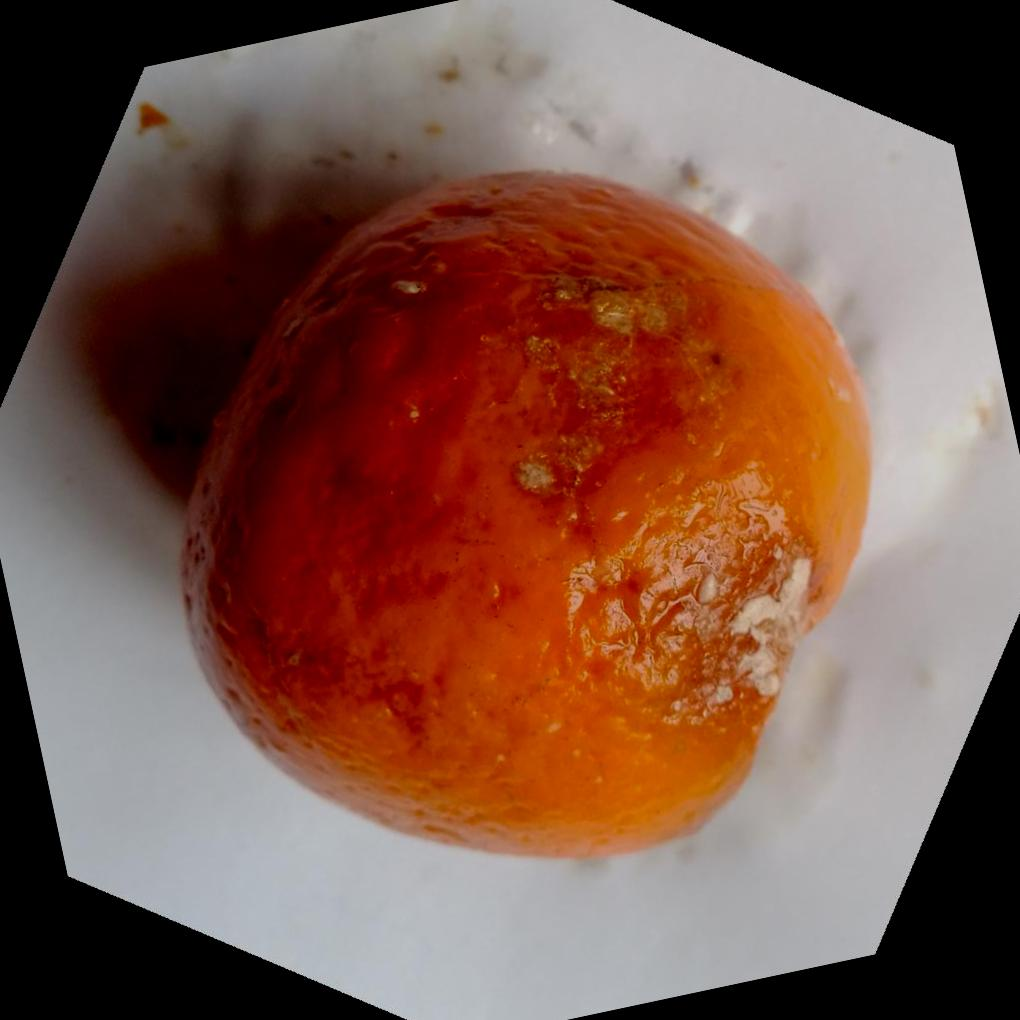FreshOrange: (175, 169, 870, 862)
